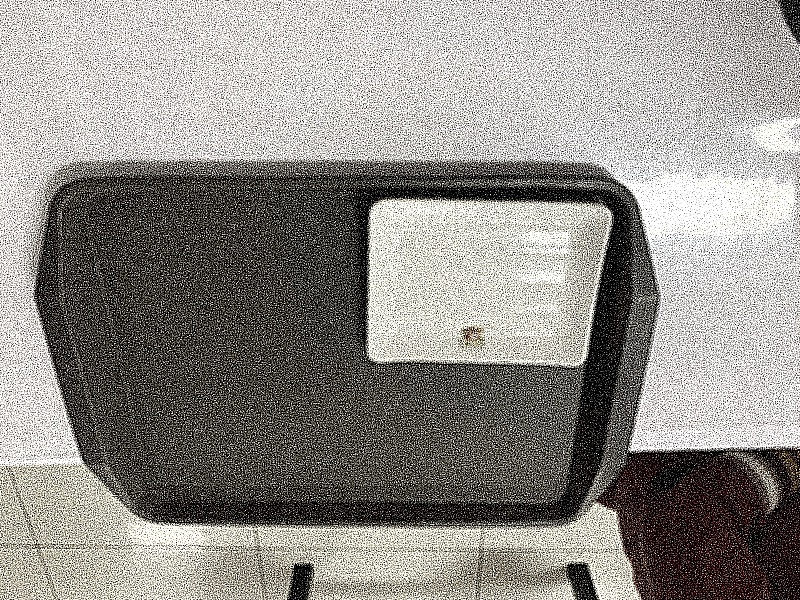dish4: (355, 190, 616, 373)
